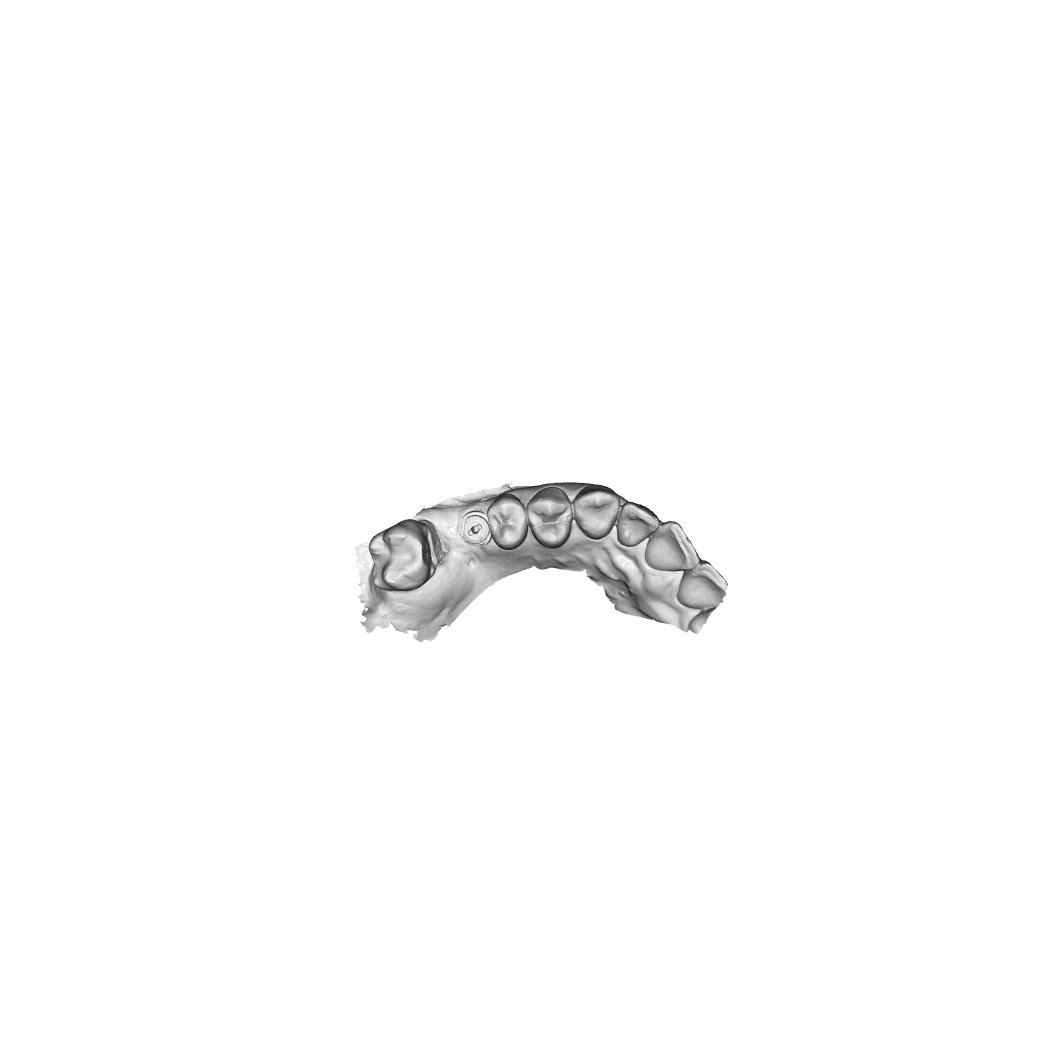canine: (571, 484, 621, 541)
implant_minus: (460, 510, 493, 546)
incisor: (644, 520, 702, 572), (675, 558, 729, 611), (617, 501, 660, 548)
molar: (367, 518, 438, 593)
premolar: (525, 486, 573, 550), (486, 492, 528, 552)
